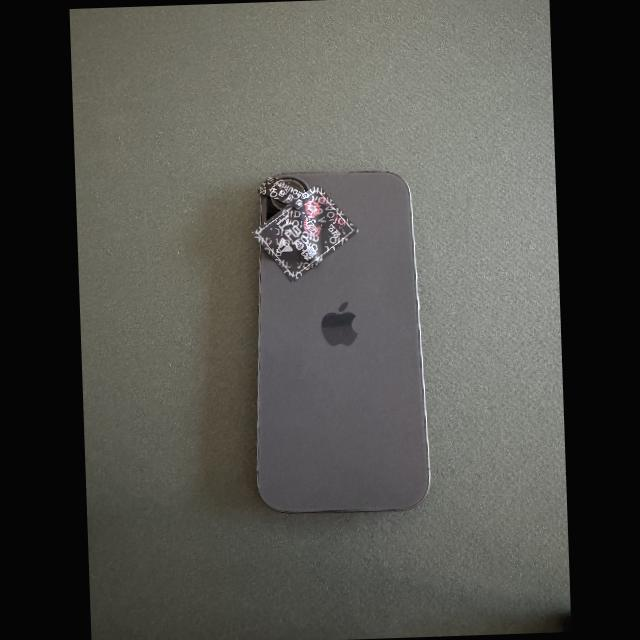lens: (286, 181, 302, 190)
phone: (256, 170, 429, 512)
sticker: (250, 185, 359, 282), (257, 176, 336, 228)
